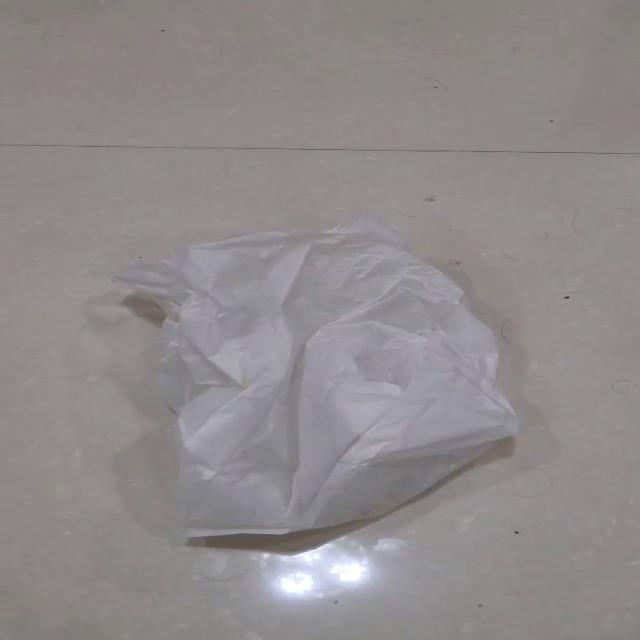plastic: (108, 216, 520, 541)
